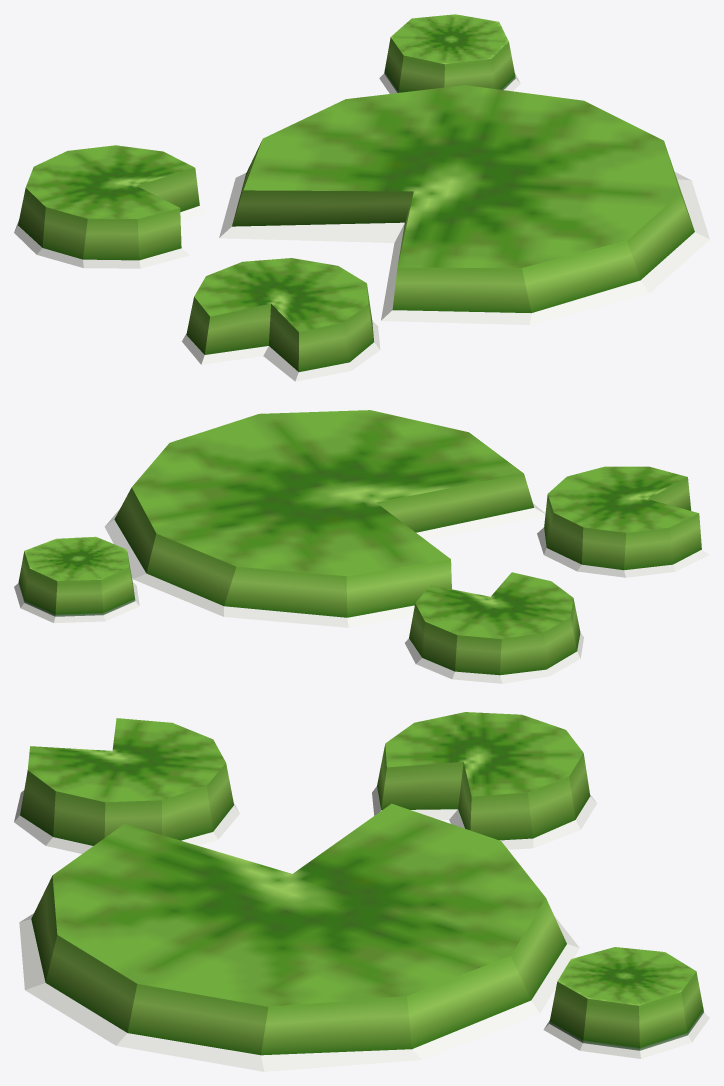
Rendered from Poly_Lotus_01.obj.
3 renders of one model, top to bottom at view 1: azimuth 30°, elevation 25°; view 2: azimuth 150°, elevation 25°; view 3: azimuth 270°, elevation 25°, orthographic. The views are drawn at different scales.
Visible parts, largest first — view 1: Circle.001, Circle.002; view 2: Circle.001, Circle.002; view 3: Circle.001, Circle.002.
Part boxes in pixels (x1=…): Circle.001: x1=14, y1=85, x2=709, y2=381; Circle.002: x1=379, y1=14, x2=520, y2=93; Circle.001: x1=105, y1=410, x2=709, y2=683; Circle.002: x1=14, y1=536, x2=139, y2=623; Circle.001: x1=14, y1=712, x2=596, y2=1071; Circle.002: x1=543, y1=947, x2=709, y2=1058.
Size of the model in its own units: 0.931 by 0.07 by 0.87.
1 material, 1 textured.
